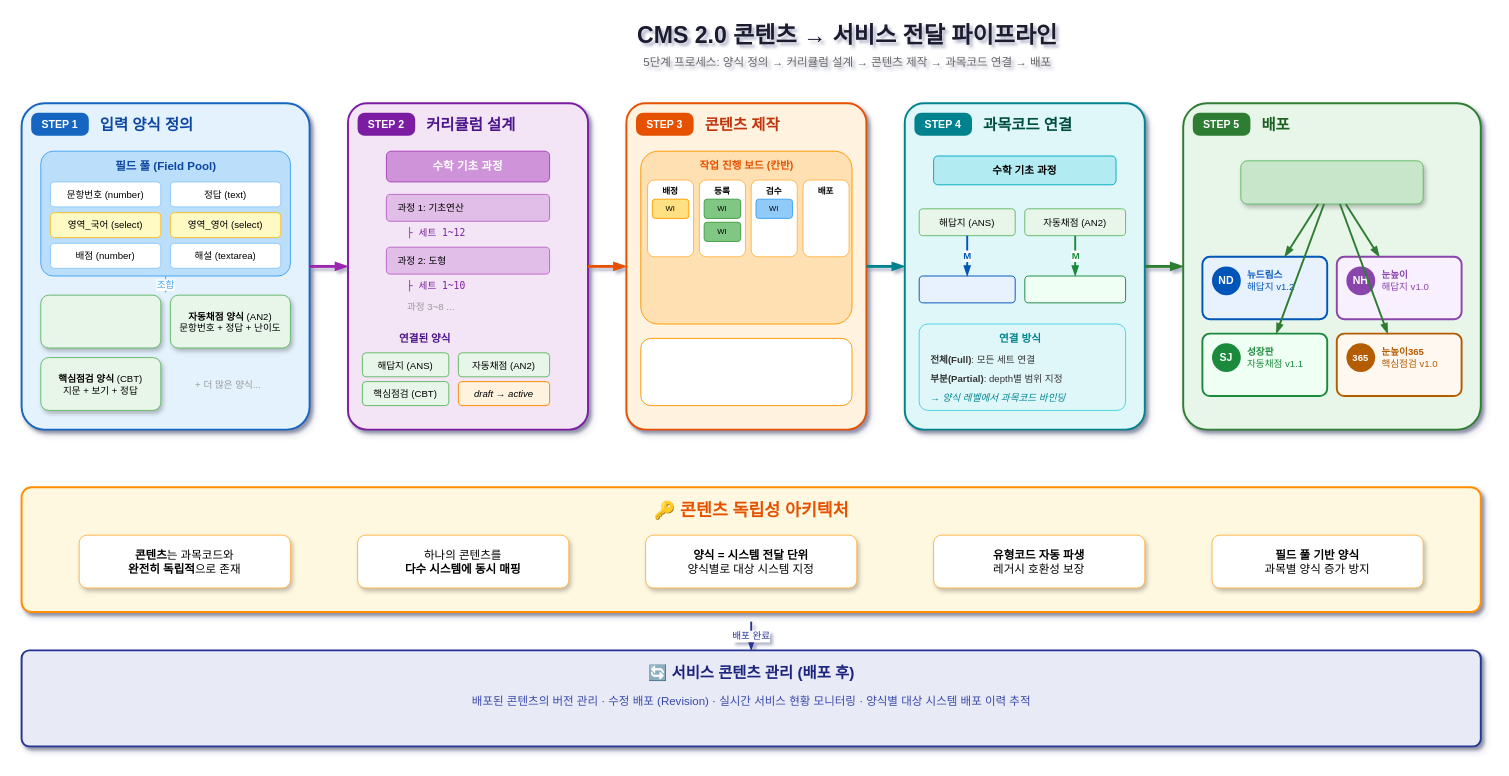
Image size: 1509x776. Some labels were removed from this diagram. The shapes that lost their labels are listed below. From the top down, each one's centre as x and y in pixels, then its label:
the point at 1332,183: 배포 스케줄 예약 배포 설정
the point at 966,289: ND 뉴드림스
the point at 1075,289: SJ 성장판
the point at 101,322: 해답지 양식 (ANS) 문항번호 + 정답 + 배점 + 해설
the point at 746,371: 작업 아이템 (WI) 커리큘럼 × 양식 단위 배정 담당자별 범위(From~To) 지정 실시간 진척률 추적
